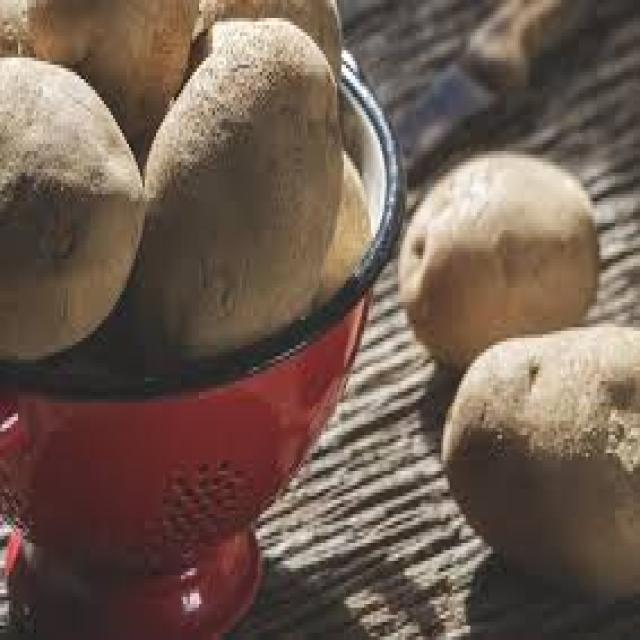Potato: (114, 7, 399, 446), (416, 84, 620, 379)
